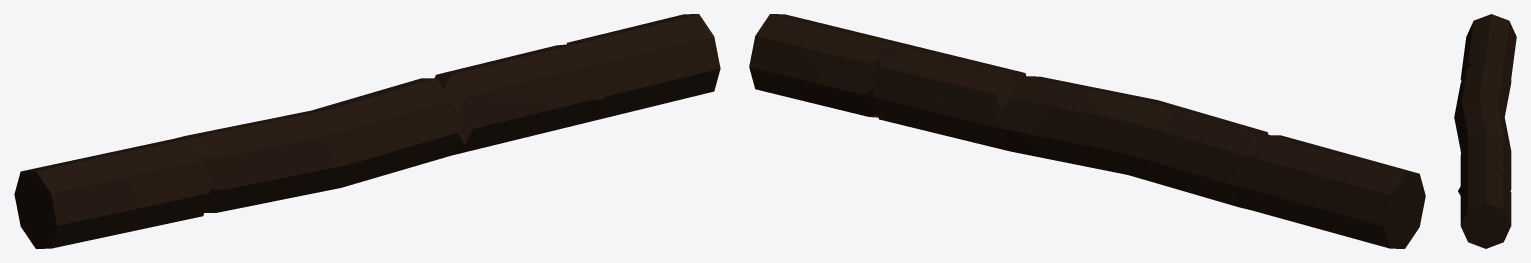
The model's file is Stronk1.fbx.
The picture shows the model from 3 angles, left to right: view 1: azimuth 30°, elevation 25°; view 2: azimuth 150°, elevation 25°; view 3: azimuth 270°, elevation 25°; orthographic projection. The views are drawn at different scales.
Parts seen in each view (by area): view 1: pCylinder1; view 2: pCylinder1; view 3: pCylinder1.
Boxes of the visible parts, bbox=[...] form: pCylinder1: bbox=[14, 14, 720, 248]; pCylinder1: bbox=[749, 14, 1425, 248]; pCylinder1: bbox=[1454, 14, 1516, 248].
Size of the model in its own units: 17.72 by 2 by 2.48.
